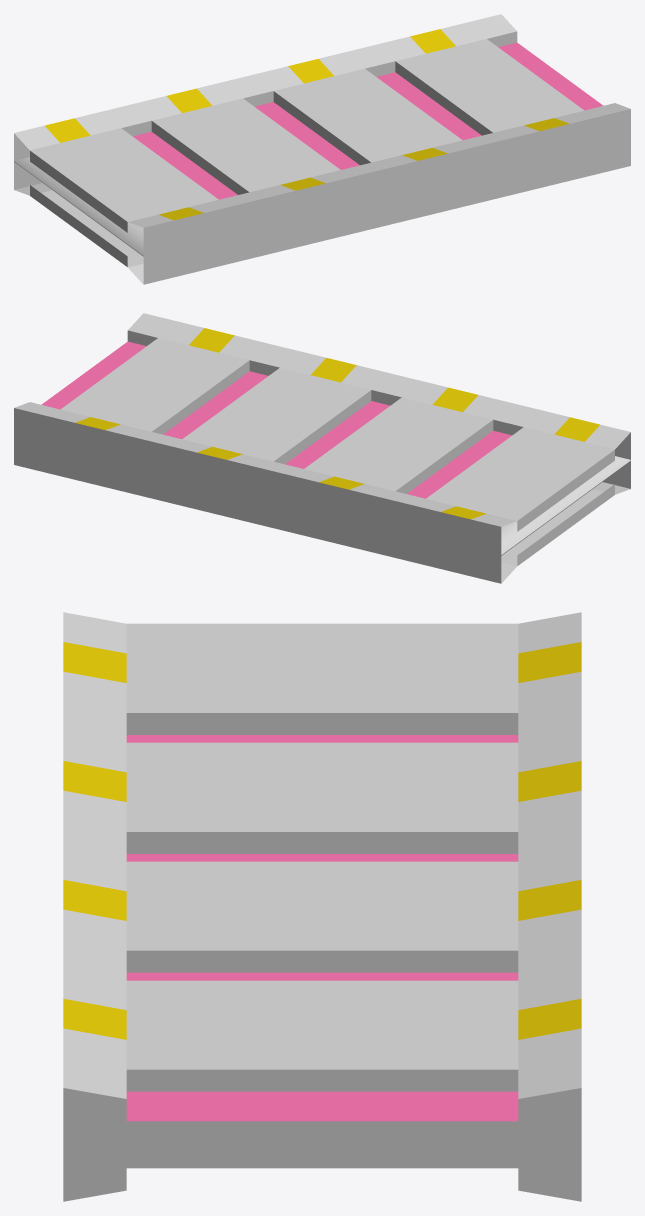
Rendered from short bridge.fbx.
3 views of the same model, one above another, from view 1: azimuth 30°, elevation 25°; view 2: azimuth 150°, elevation 25°; view 3: azimuth 270°, elevation 25° (orthographic). The views are drawn at different scales.
Visible parts, largest first — view 1: Cube; view 2: Cube; view 3: Cube.
Boxes of the visible parts, x1,y1,x2,y2 form: Cube: (14,14,630,284); Cube: (14,313,630,583); Cube: (63,612,581,1201).
Bounding box in the file's own units: 1029 × 115 × 474.
